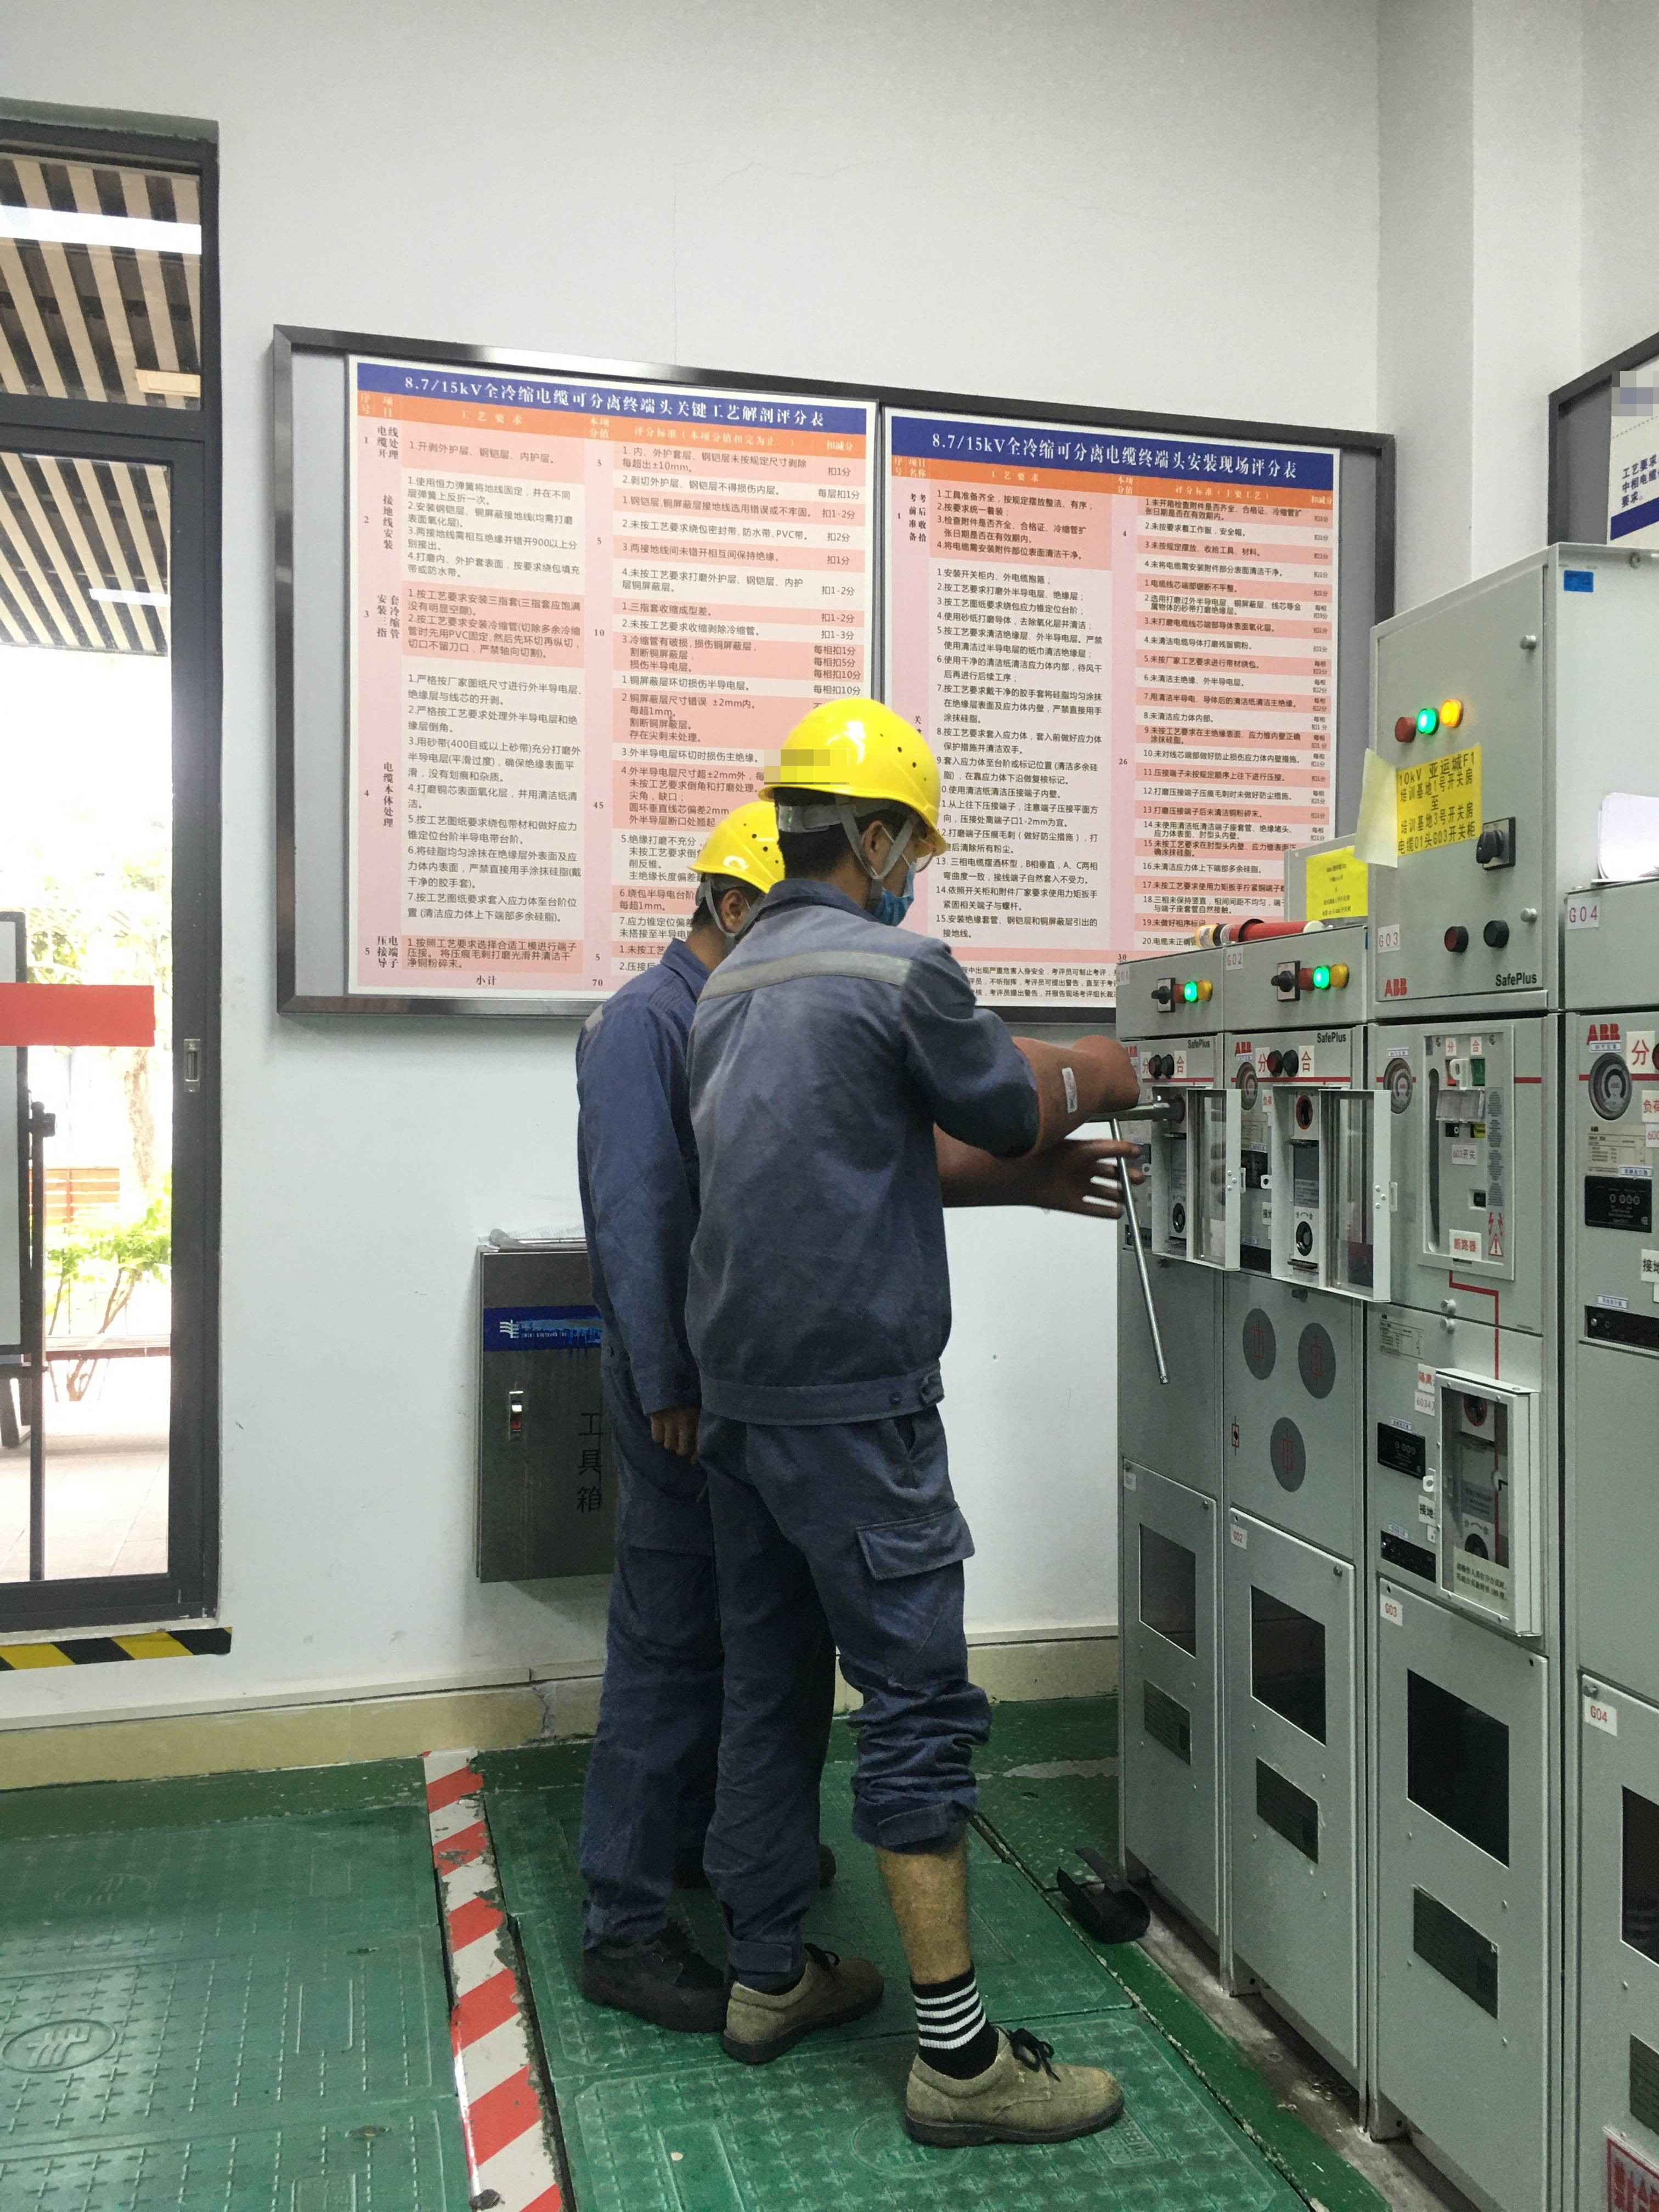downsuit: (716, 1433, 990, 1973)
upsuit: (669, 887, 1047, 1416)
wrongbottom: (852, 1740, 993, 2041)
